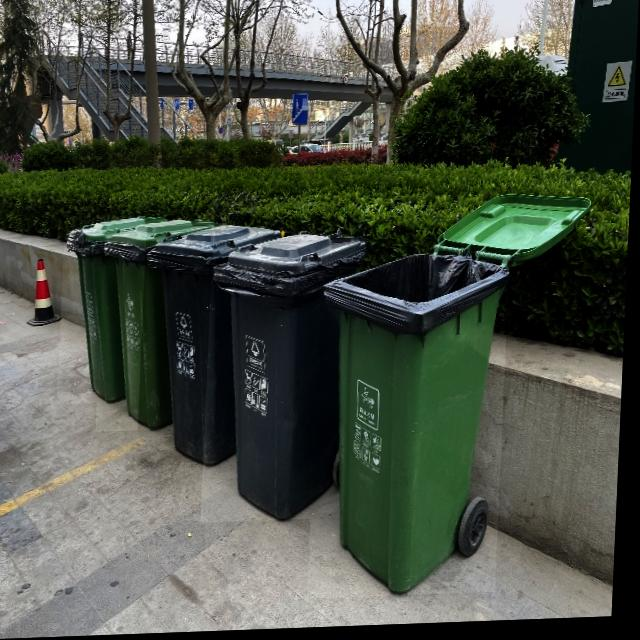garbage_bin: (313, 254, 512, 601), (206, 231, 368, 524), (141, 225, 284, 470), (100, 218, 217, 433), (61, 215, 168, 405)
